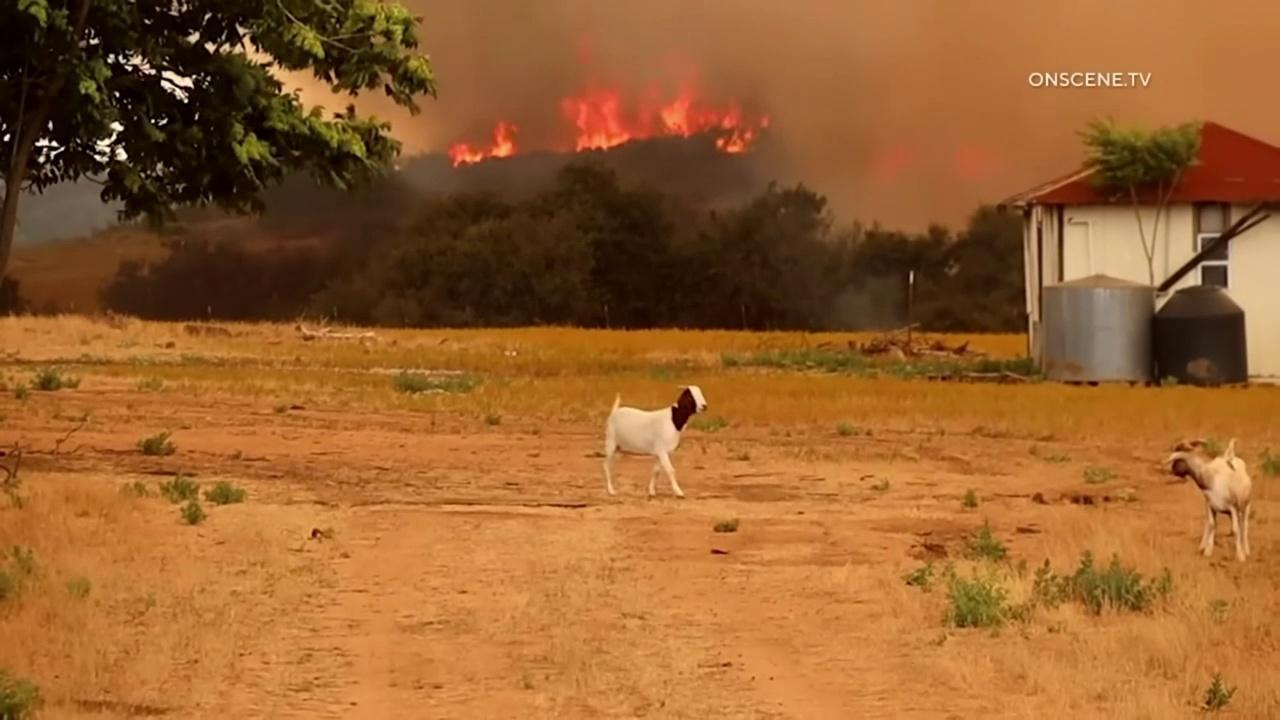fire: (553, 42, 753, 156), (447, 119, 520, 169), (868, 144, 912, 187), (953, 144, 998, 183), (761, 114, 770, 129)
smoke: (375, 0, 1280, 238)
